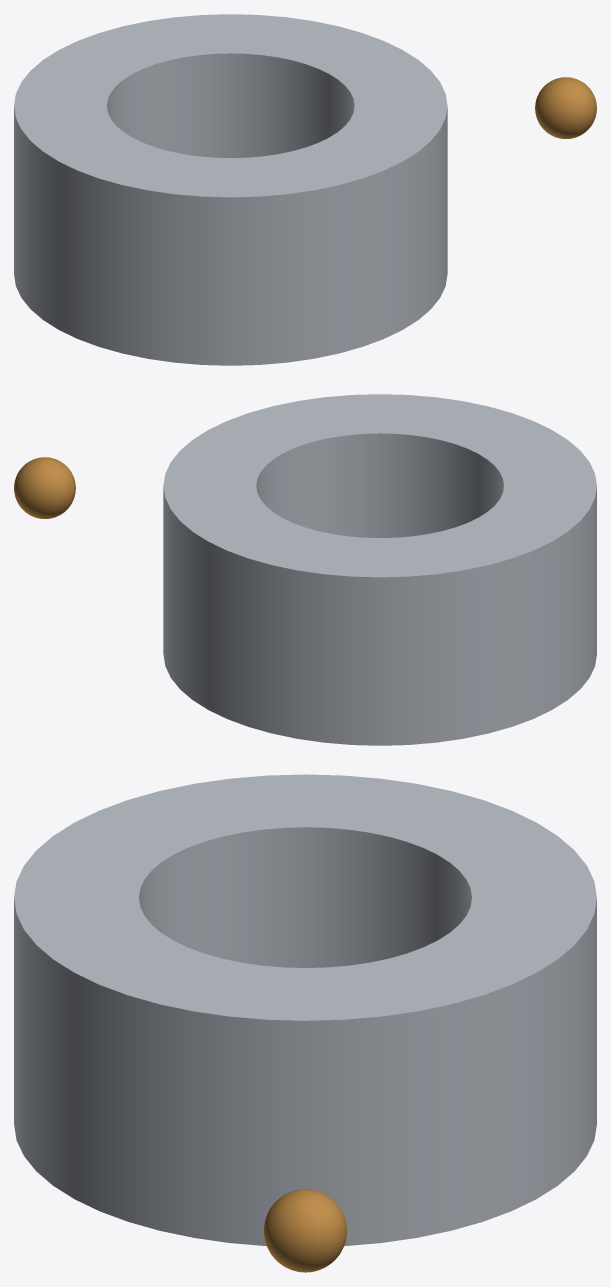
File: default-native.glb
The picture shows the model from 3 angles, top to bottom: view 1: azimuth 30°, elevation 25°; view 2: azimuth 150°, elevation 25°; view 3: azimuth 270°, elevation 25°; orthographic projection. The views are drawn at different scales.
Parts seen in each view (by area): view 1: bushing, preserved; view 2: bushing, preserved; view 3: bushing, preserved.
Boxes of the visible parts, x1=… form: bushing: x1=14, y1=14, x2=447, y2=365; preserved: x1=535, y1=77, x2=596, y2=138; bushing: x1=163, y1=394, x2=596, y2=745; preserved: x1=14, y1=457, x2=75, y2=518; bushing: x1=14, y1=774, x2=596, y2=1245; preserved: x1=264, y1=1189, x2=346, y2=1272.
Bounding box in the file's own units: 0.041 × 0.012 × 0.028.
